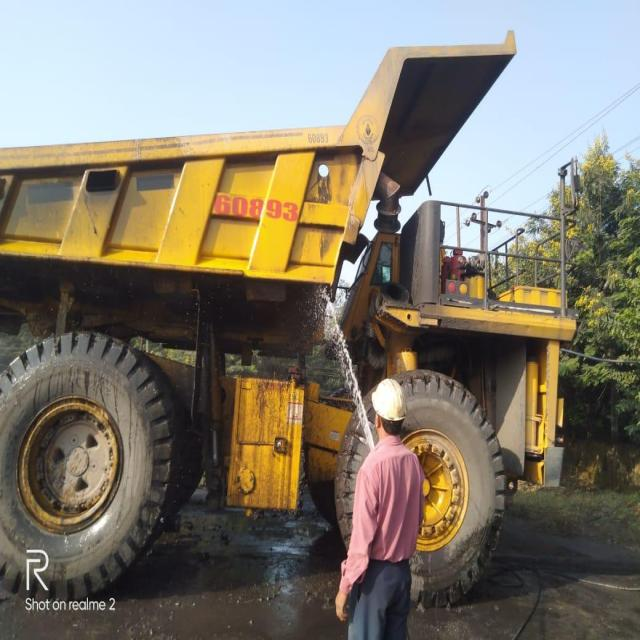dump_truck: (0, 30, 573, 613)
